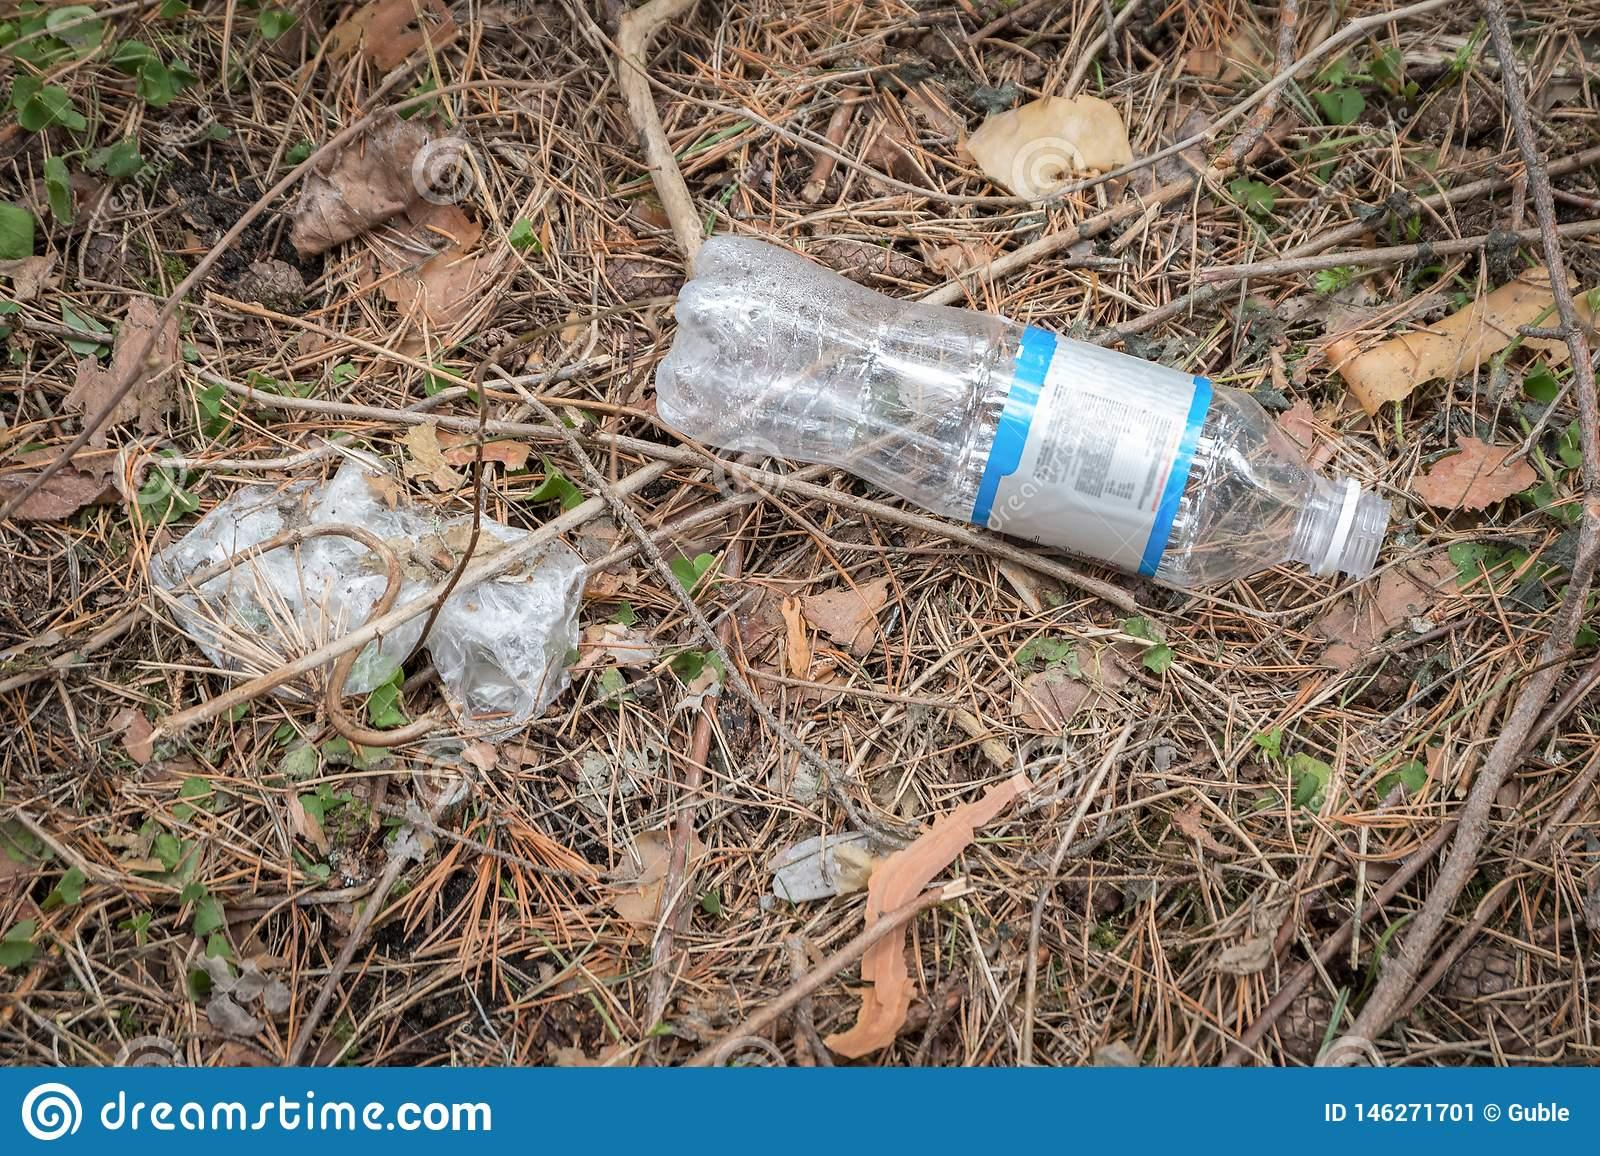bottle: (648, 226, 1450, 671)
